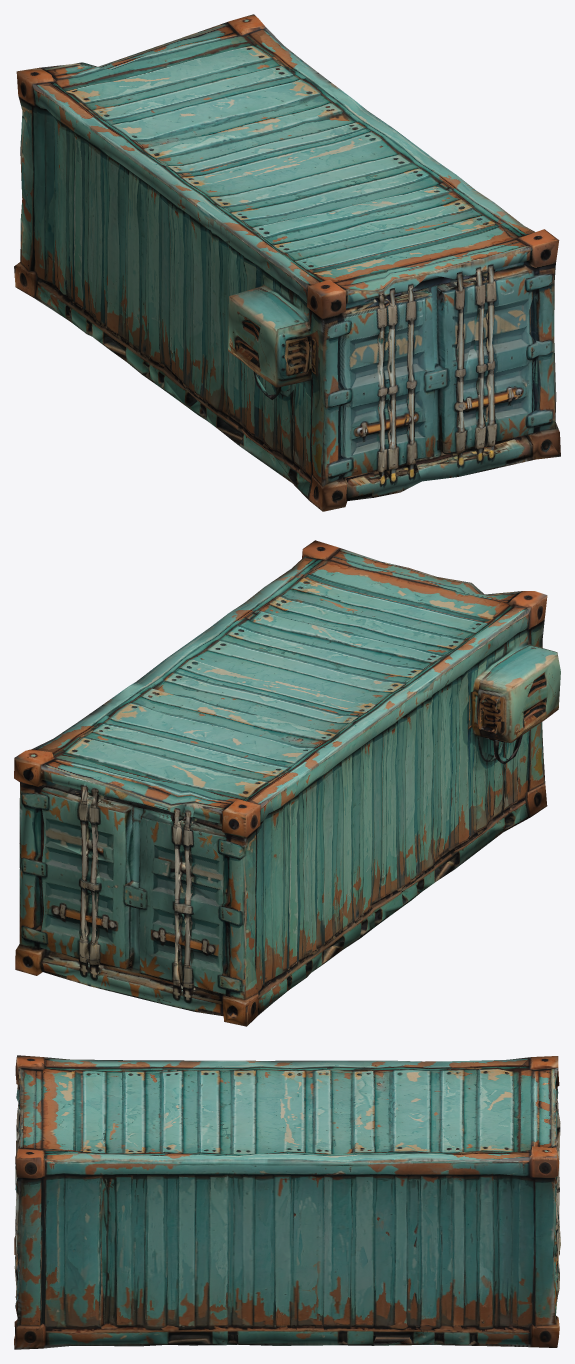
Rendered from EX_Camp_Container.fbx.
The picture shows the model from 3 angles, top to bottom: view 1: azimuth 30°, elevation 25°; view 2: azimuth 150°, elevation 25°; view 3: azimuth 270°, elevation 25°; orthographic projection. The views are drawn at different scales.
Visible parts, largest first — view 1: texture_mapping; view 2: texture_mapping; view 3: texture_mapping.
Boxes of the visible parts, box(x1,y1,x2,y2) form: texture_mapping: box(14, 14, 560, 511); texture_mapping: box(14, 540, 560, 1026); texture_mapping: box(14, 1055, 560, 1349).
Bounding box in the file's own units: 0.5046 × 1 × 0.393.
1 material, 1 textured.
